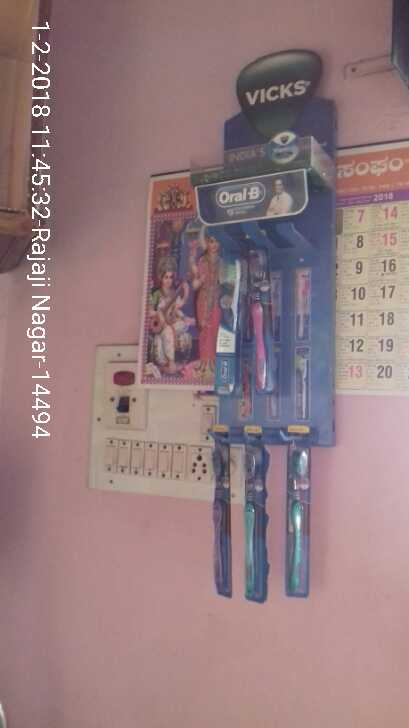oralb: (245, 243, 279, 395), (242, 424, 269, 601), (283, 424, 310, 596), (210, 423, 233, 598), (212, 256, 239, 387)
